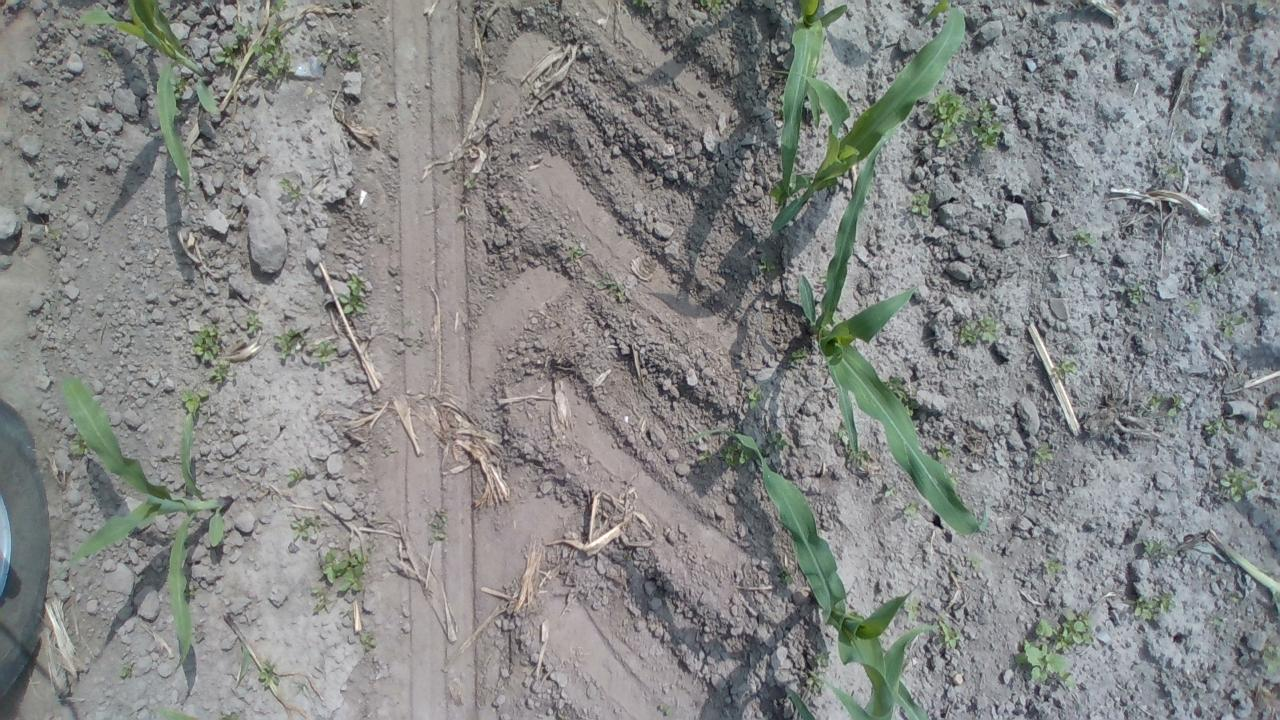Maize: (796, 128, 981, 548), (728, 422, 966, 720), (55, 356, 238, 691), (771, 3, 970, 235), (68, 0, 224, 222), (774, 0, 851, 211)
Weeds: (1014, 614, 1079, 693), (319, 545, 368, 596), (970, 97, 1007, 164), (930, 89, 968, 148), (258, 22, 295, 81), (1212, 458, 1258, 502), (592, 265, 634, 311), (214, 22, 253, 70), (885, 374, 922, 422), (318, 38, 366, 70), (1062, 606, 1096, 650), (337, 273, 370, 318), (190, 324, 227, 361), (956, 317, 1000, 348), (720, 439, 761, 472), (1134, 591, 1178, 621), (838, 424, 868, 468), (269, 324, 303, 362), (1139, 535, 1177, 569), (1200, 410, 1240, 442), (398, 316, 428, 351), (426, 509, 450, 552), (1024, 436, 1056, 468), (309, 336, 342, 366), (179, 386, 210, 416), (1069, 226, 1100, 256), (309, 584, 336, 616), (744, 383, 770, 416), (1050, 354, 1080, 382), (1194, 27, 1222, 57), (936, 618, 962, 650), (1260, 640, 1280, 681), (290, 515, 322, 540), (898, 500, 928, 526), (766, 428, 793, 456), (1124, 279, 1150, 308), (258, 660, 283, 690), (1258, 405, 1280, 439), (1218, 310, 1244, 338), (902, 594, 928, 622), (910, 187, 931, 221), (753, 256, 781, 280), (279, 178, 306, 202), (212, 358, 235, 386), (700, 0, 732, 19), (354, 626, 378, 650), (1040, 556, 1062, 582), (378, 442, 404, 464), (247, 308, 266, 338), (1166, 391, 1188, 416), (286, 466, 318, 483), (460, 175, 484, 195), (89, 49, 120, 64), (1141, 393, 1163, 414), (115, 658, 136, 680), (564, 244, 586, 264), (1200, 268, 1220, 290), (936, 445, 954, 468), (788, 344, 806, 367), (628, 0, 664, 11)
